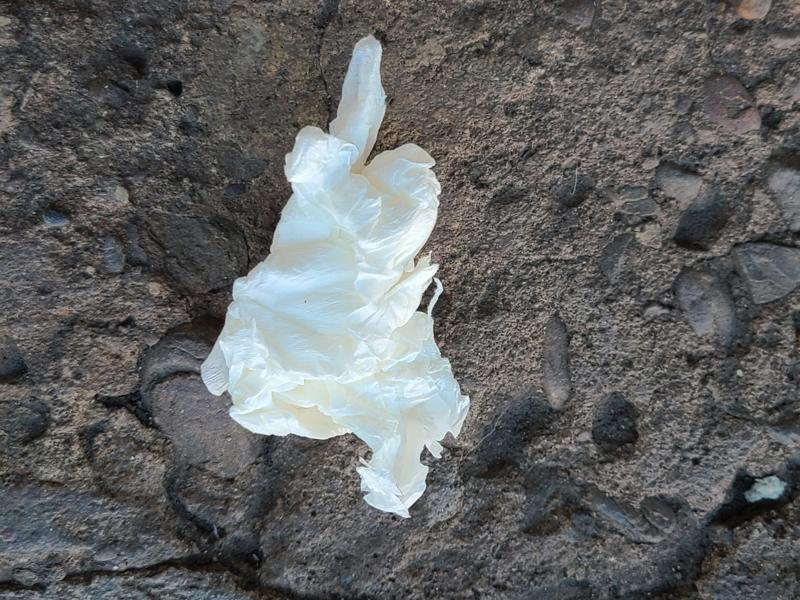papel: (199, 36, 469, 519)
